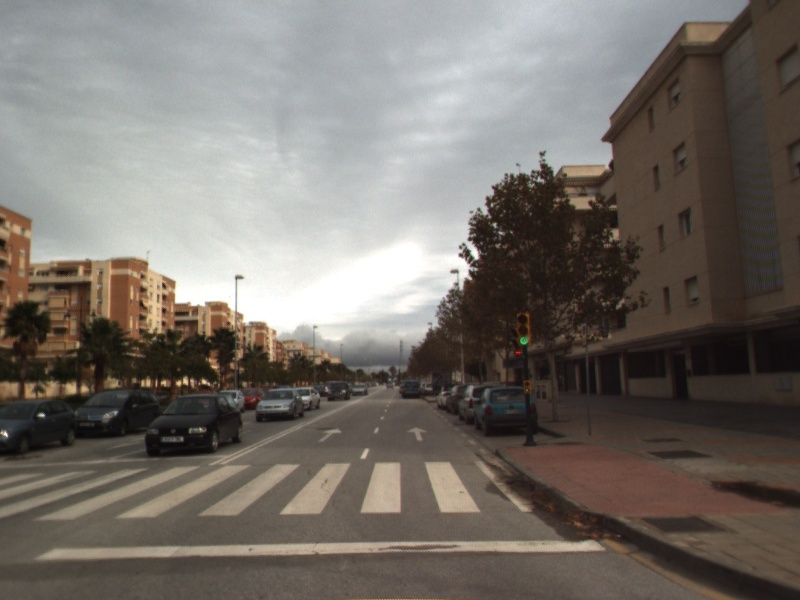STRAIGHT: (316, 426, 344, 444), (405, 424, 430, 443)
